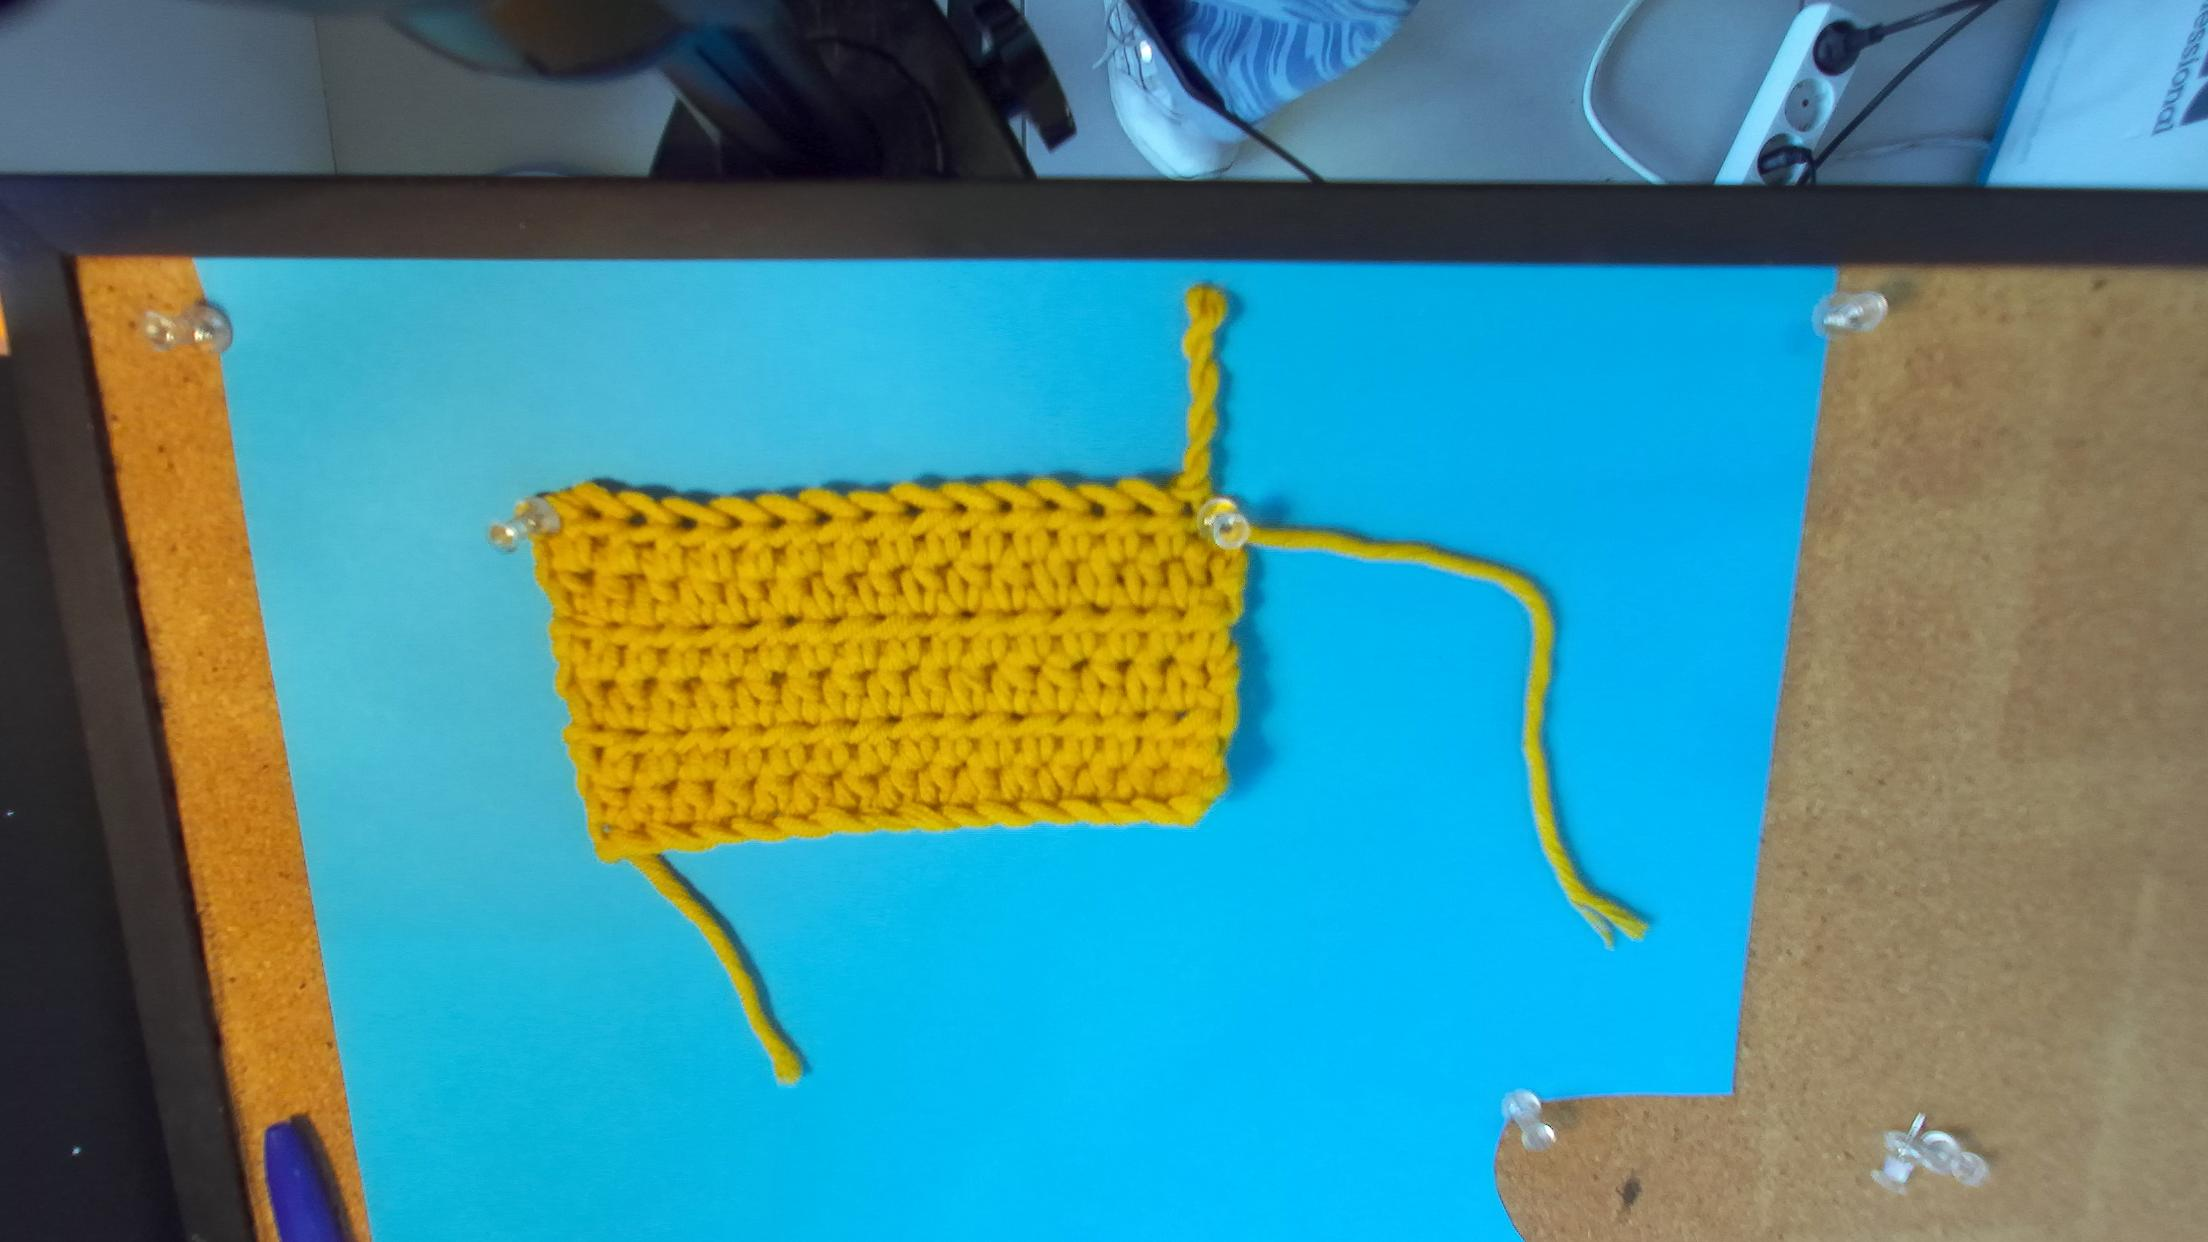hole: (902, 500, 927, 520), (1131, 500, 1156, 517), (623, 511, 649, 526), (813, 508, 834, 526), (675, 514, 698, 531), (578, 507, 605, 520), (1177, 500, 1197, 519), (1089, 502, 1106, 519), (767, 516, 787, 529), (726, 516, 745, 529), (860, 508, 878, 522), (998, 500, 1013, 514), (1042, 499, 1060, 510), (952, 502, 969, 513)
swatch: (485, 470, 1256, 864)
